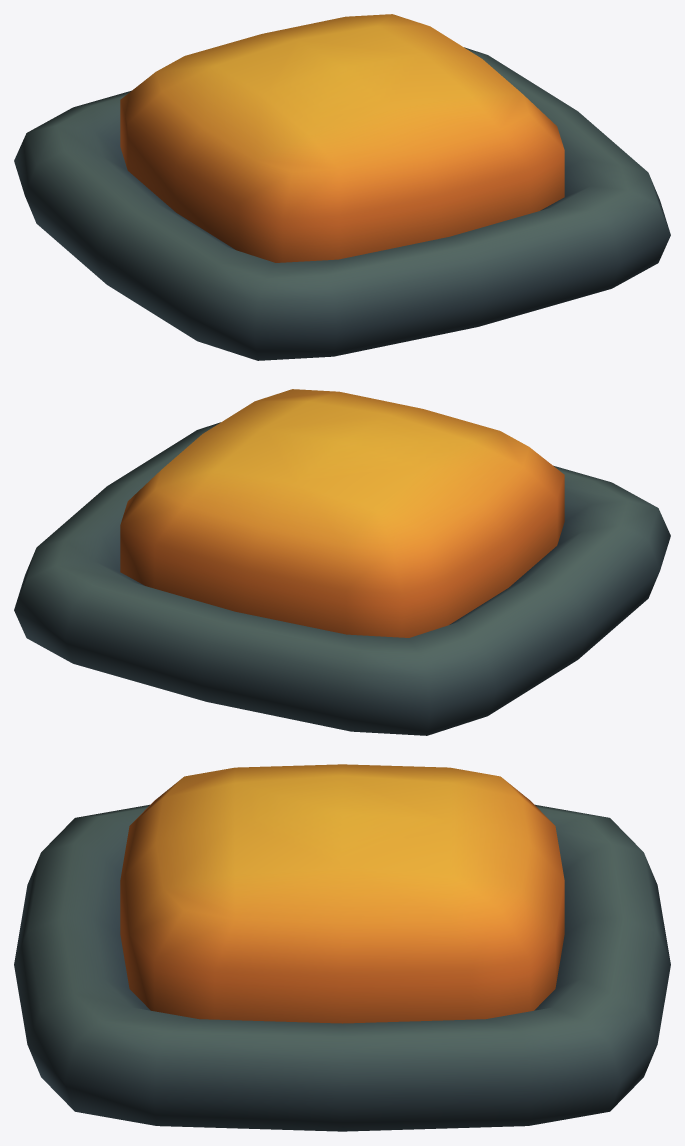
File: lamp_ceiling_LOD_setup.fbx
The picture shows the model from 3 angles, top to bottom: view 1: azimuth 30°, elevation 25°; view 2: azimuth 150°, elevation 25°; view 3: azimuth 270°, elevation 25°; orthographic projection. The views are drawn at different scales.
Visible parts, largest first — view 1: lamp_ceiling_LOD0; view 2: lamp_ceiling_LOD0; view 3: lamp_ceiling_LOD0.
Part boxes in pixels (x1,y1,x2,y2): lamp_ceiling_LOD0: (14, 14, 670, 360); lamp_ceiling_LOD0: (14, 389, 670, 735); lamp_ceiling_LOD0: (14, 764, 670, 1131).
Size of what is drawn, in the model's own units: 104 by 34.55 by 104.
